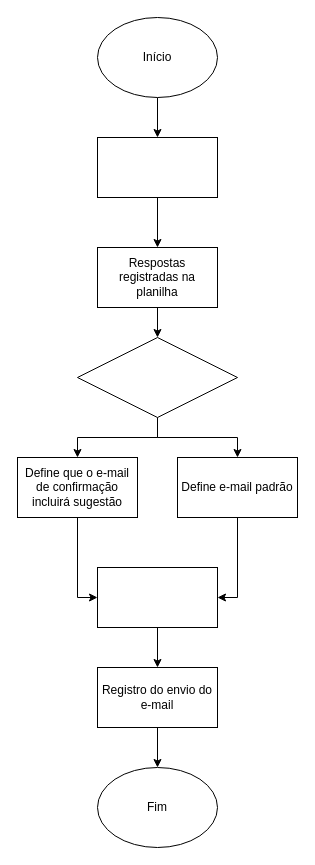
Image size: 315x865. Some labels were removed from this diagram. Here are the shapes that lost their labels. From the top down, the centre of each, then its label:
At [157,167]: "Cliente preenche formulário".
At [157,377]: "Verificação do Plano".
At [157,597]: "Envio do e-mail de confirmação".
